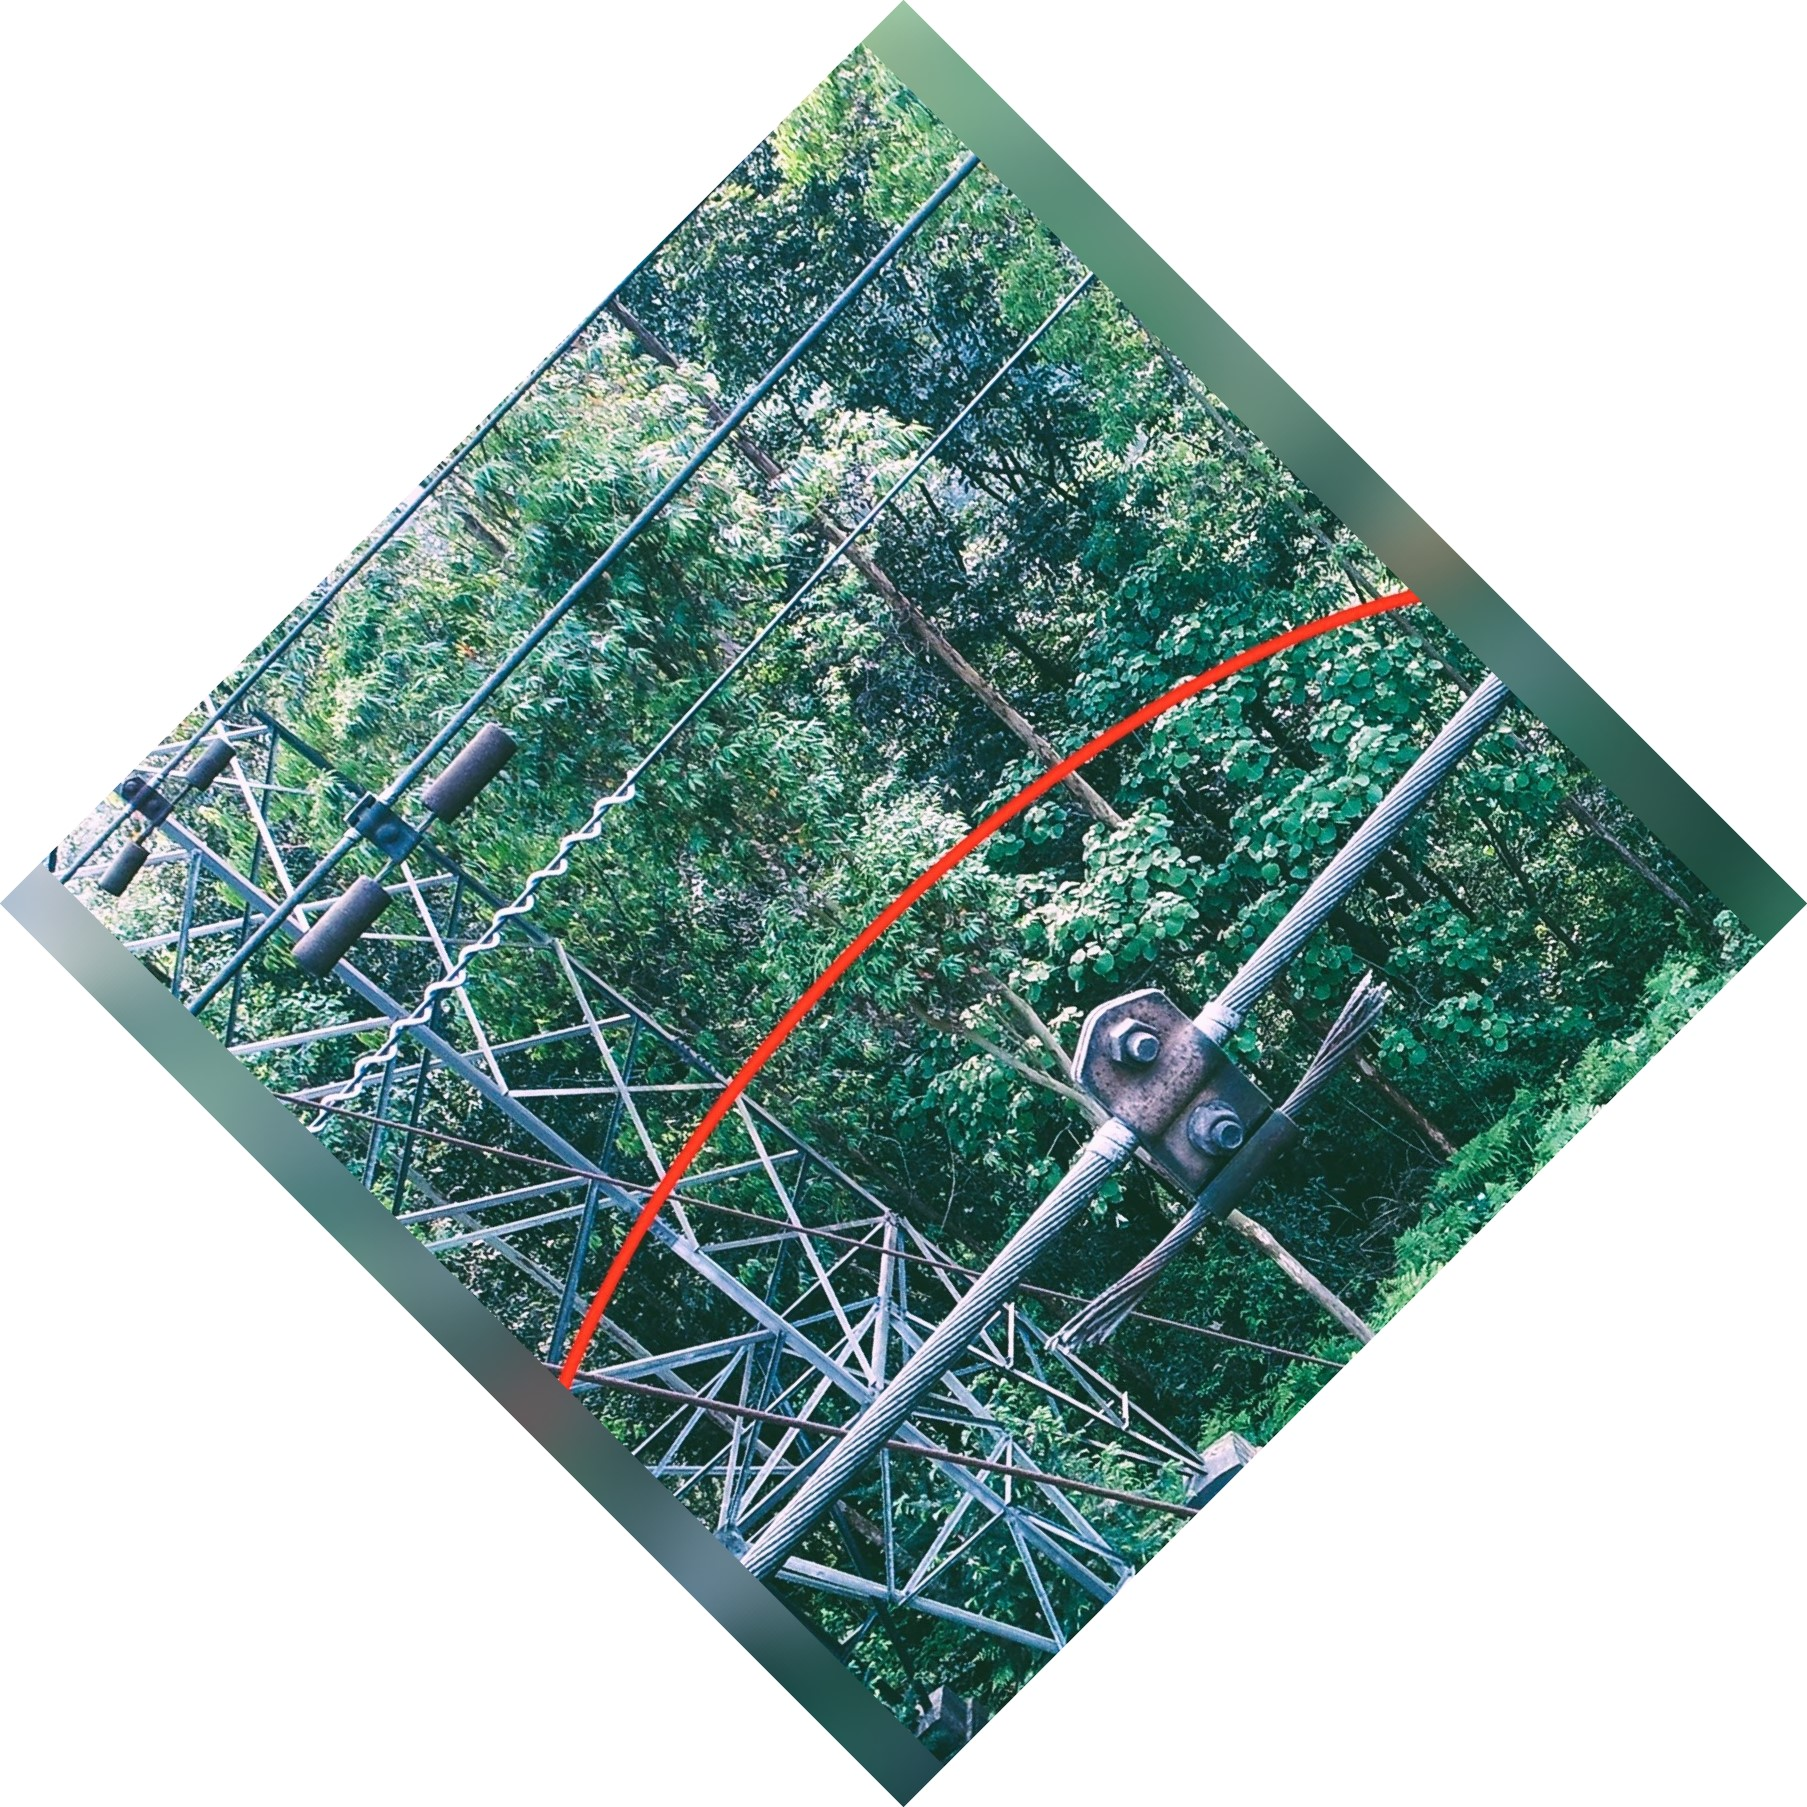Damage of shockproof hammer: (986, 933, 1431, 1397)
